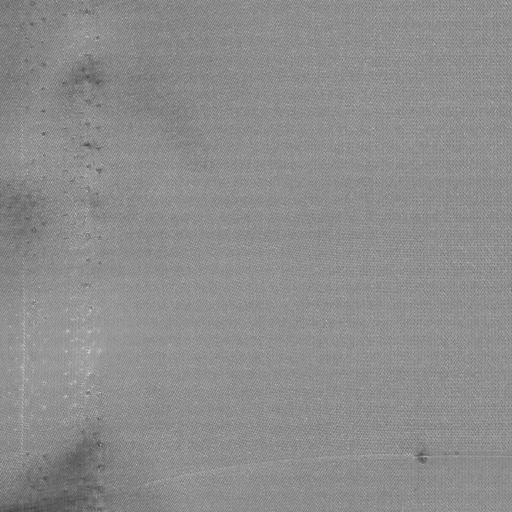defect: (409, 450, 512, 464)
